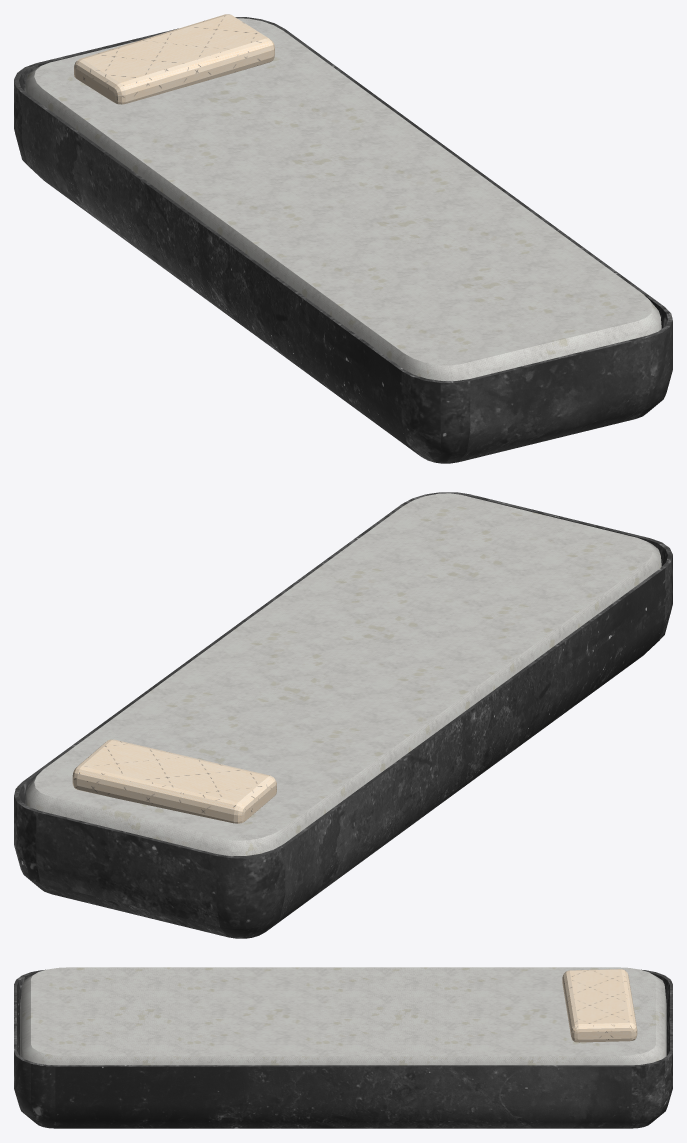
Rendered from bed.glb.
3 renders of one model, top to bottom at view 1: azimuth 30°, elevation 25°; view 2: azimuth 150°, elevation 25°; view 3: azimuth 270°, elevation 25°, orthographic. The views are drawn at different scales.
Visible parts, largest first — view 1: bed; view 2: bed; view 3: bed.
Part boxes in pixels (box(x1,y1,x2,y2)): bed: box(14, 14, 672, 463); bed: box(14, 492, 672, 938); bed: box(14, 967, 672, 1128).
Bounding box in the file's own units: 0.7 × 0.3249 × 2.
Materials: 3 (3 with a texture image).
